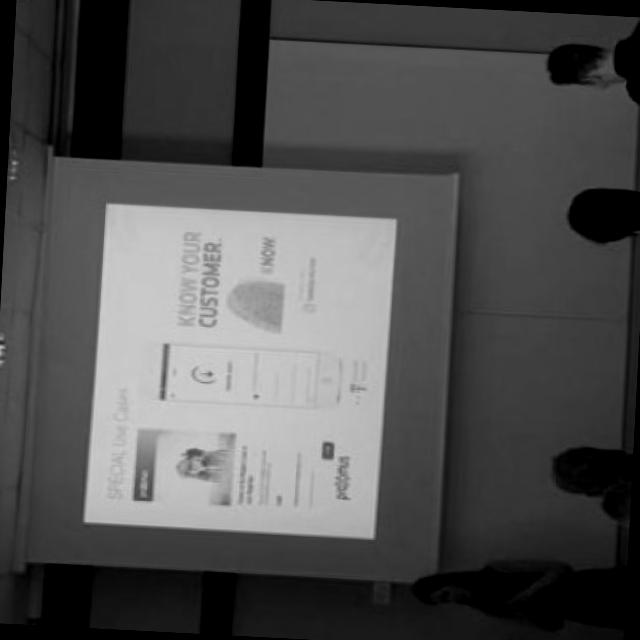Instructor: (401, 547, 617, 629)
Slide: (83, 203, 397, 533)
White-board: (242, 36, 639, 580)
